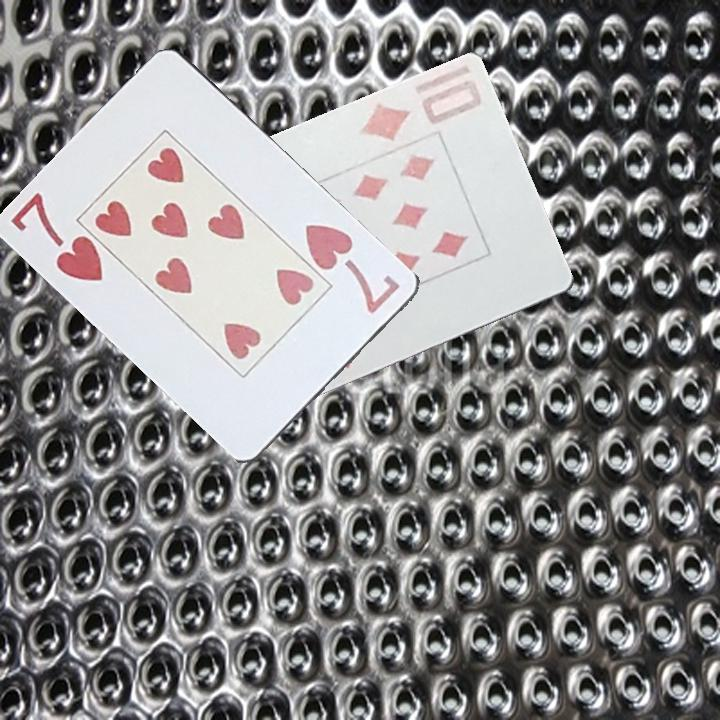7h: (302, 220, 404, 317), (8, 188, 107, 285)
Td: (354, 76, 485, 145)
